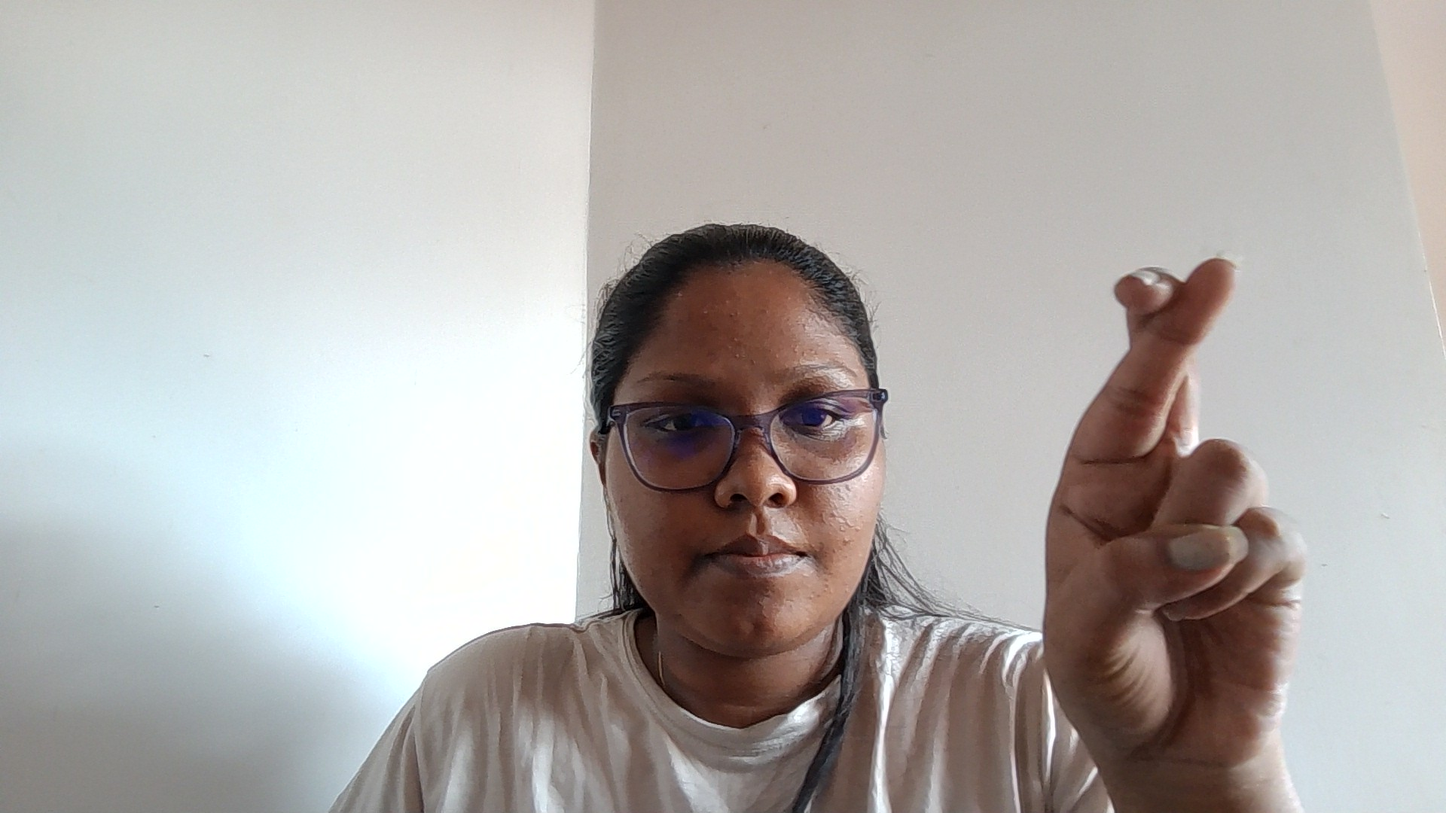Good_Luck: (1011, 190, 1432, 794)
